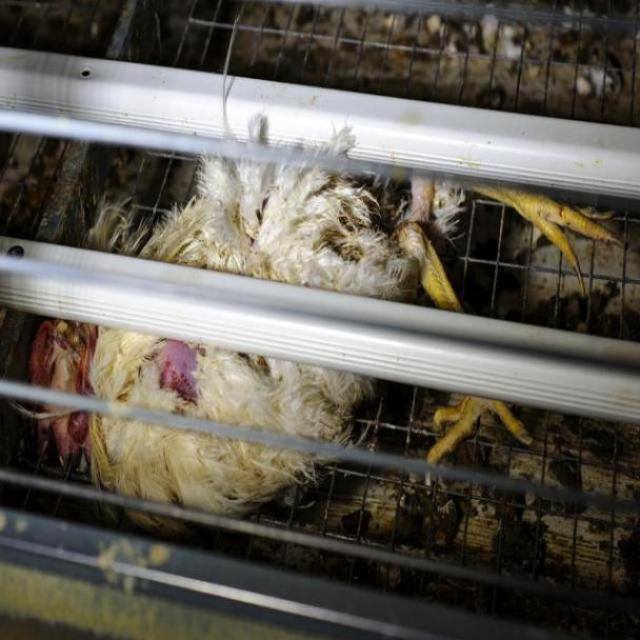Chicken: (26, 122, 615, 534)
